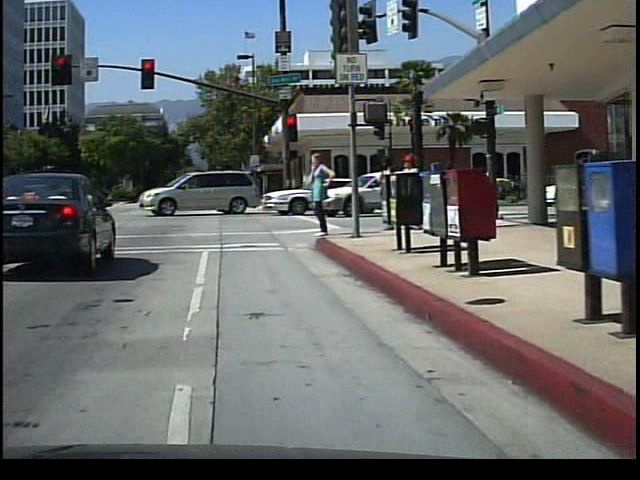person: (302, 146, 334, 241), (396, 148, 426, 234), (368, 149, 393, 228)
